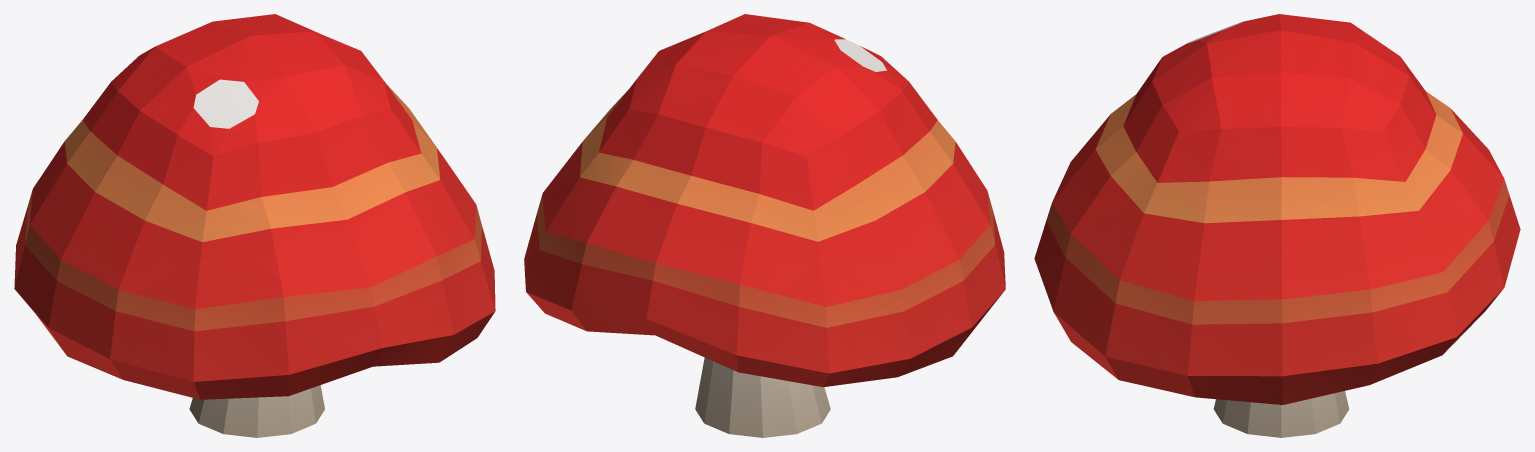
File: Mushroom4.fbx
3 renders of one model, left to right at view 1: azimuth 30°, elevation 25°; view 2: azimuth 150°, elevation 25°; view 3: azimuth 270°, elevation 25°, orthographic.
Parts seen in each view (by area): view 1: Mushroom4; view 2: Mushroom4; view 3: Mushroom4.
Boxes of the visible parts, x1,y1,x2,y2 form: Mushroom4: (14,14,495,437); Mushroom4: (524,14,1005,437); Mushroom4: (1034,14,1520,437).
Bounding box in the file's own units: 29.96 × 25.98 × 30.51.
